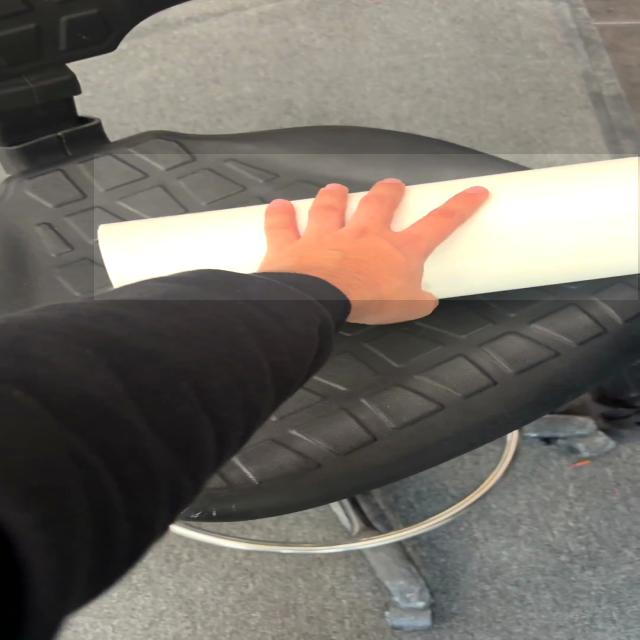Coral: (94, 154, 638, 300)
